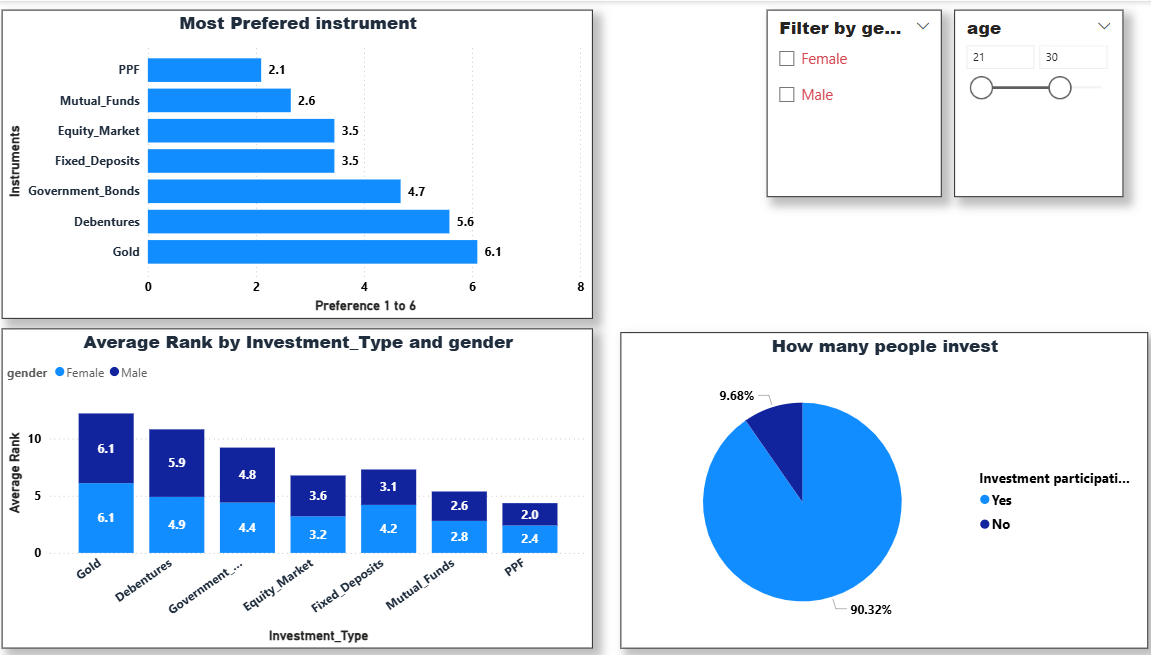

The dashboard page shown, as its layout file describes it:
{"tool":"powerbi","page":{"name":"Page 1","canvas":[1280,720],"ordinal":0},"visuals":[{"type":"clusteredBarChart","title":"Most Prefered instrument ","fields":{"Category":["Sheet1.Investment_Type"],"Y":["Sheet1.Average Rank"]},"box":[9.6,9.6,649.1,338.9],"z":0},{"type":"slicer","fields":{"Values":["Sheet1.gender"]},"box":[849.4,9.6,192.1,205.8],"z":1000},{"type":"columnChart","fields":{"Series":["Sheet1.gender"],"Category":["Sheet1.Investment_Type"],"Y":["Sheet1.Average Rank"]},"box":[9.6,359.5,649.1,351.3],"z":2000},{"type":"pieChart","title":"How many people invest","fields":{"Category":["Sheet1.Investment_Avenues"],"Y":["CountNonNull(Sheet1.gender)"]},"box":[688.9,363.6,579.1,347.2],"z":3000},{"type":"slicer","fields":{"Values":["Sheet1.age"]},"box":[1055.2,9.6,185.2,205.8],"z":4000}]}

Visuals, with their boxes in screenshot pixels (x1, y1, x2, y2), scaled from the page's 1280x720 canvas onto the 1151x655 screenshot:
"Most Prefered instrument " clusteredBarChart: 9,9,592,317
slicer - Sheet1.gender: 764,9,937,196
columnChart - Sheet1.gender x Sheet1.Investment_Type: 9,327,592,647
"How many people invest" pieChart: 619,331,1140,647
slicer - Sheet1.age: 949,9,1115,196
